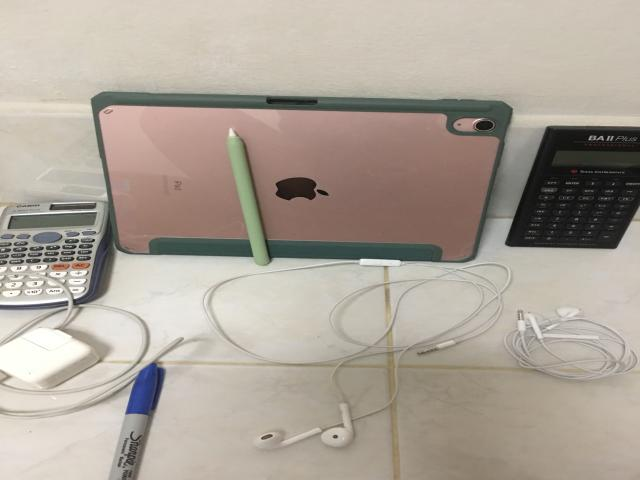wire: (202, 259, 512, 449), (0, 270, 183, 419), (503, 307, 638, 380)
